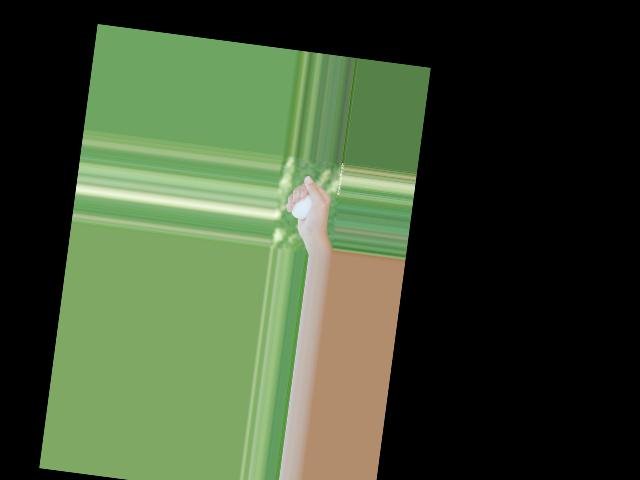egg: (290, 192, 313, 219)
